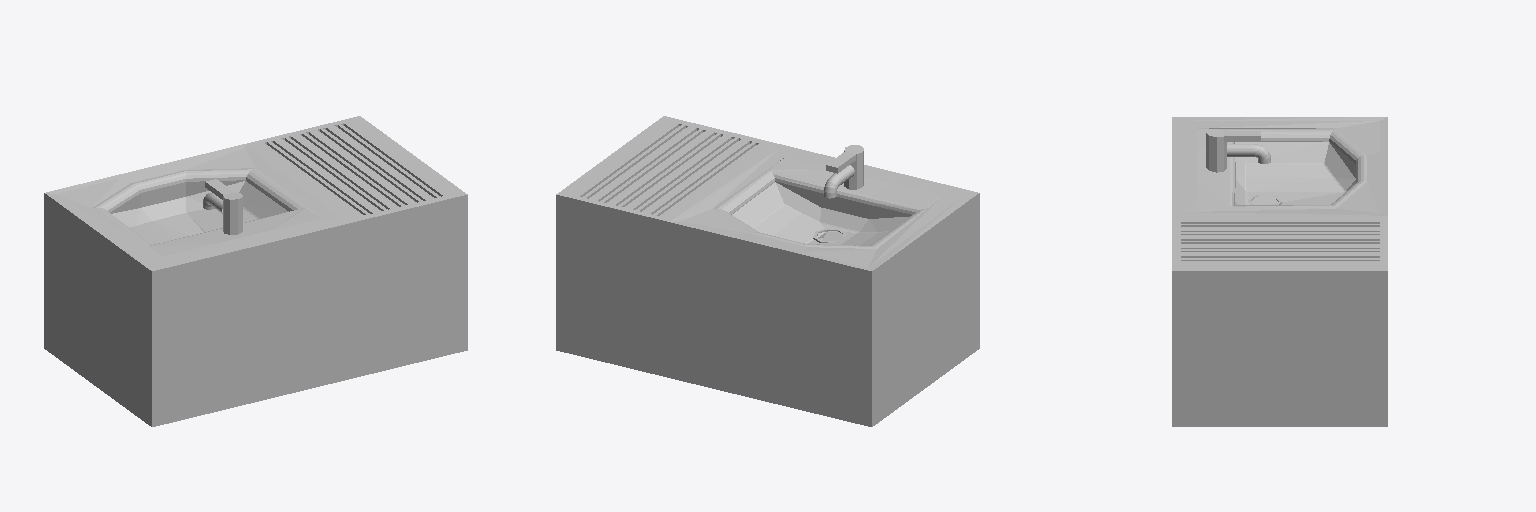
Rendered from wardrobe with washbasin.mtl.obj.
3 views of the same model, side by side, from view 1: azimuth 30°, elevation 25°; view 2: azimuth 150°, elevation 25°; view 3: azimuth 270°, elevation 25° (orthographic).
Parts seen in each view (by area): view 1: Cube, Cube.002; view 2: Cube, Cube.002; view 3: Cube, Cube.002.
Boxes of the visible parts, x1=… form: Cube: x1=44, y1=116, x2=467, y2=426; Cube.002: x1=92, y1=168, x2=320, y2=255; Cube: x1=556, y1=116, x2=979, y2=426; Cube.002: x1=713, y1=145, x2=941, y2=248; Cube: x1=1172, y1=117, x2=1387, y2=426; Cube.002: x1=1197, y1=128, x2=1366, y2=208.
Size of the model in its own units: 1.7 by 1 by 1.01.